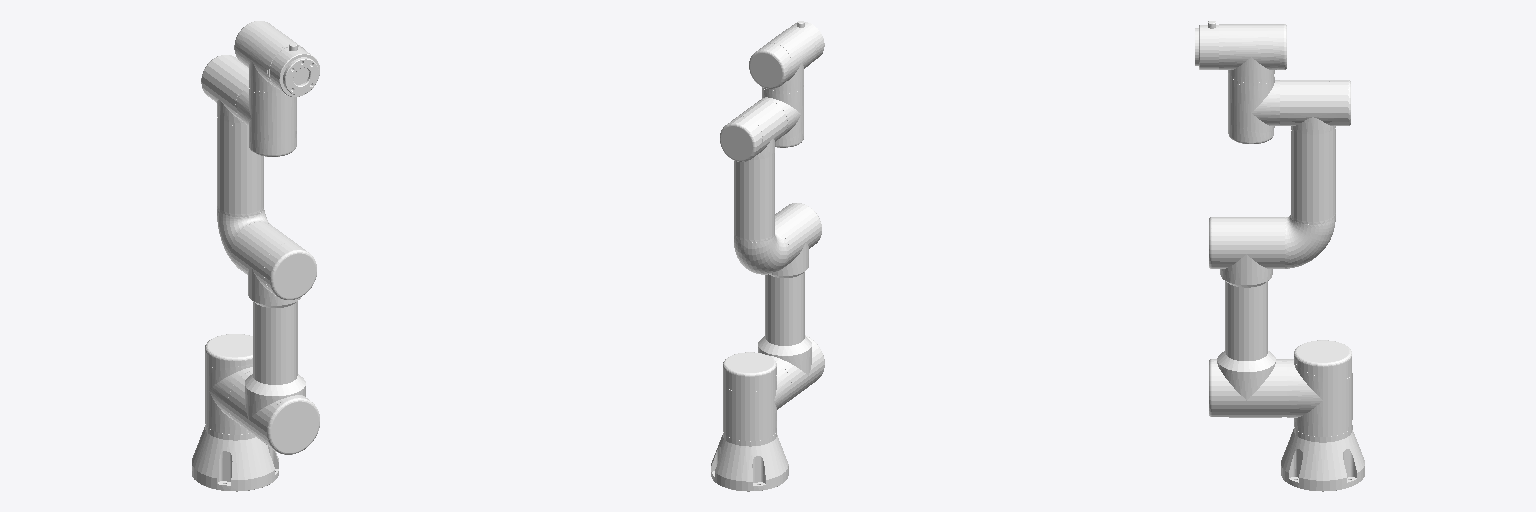
The robot description file, URDF, robot "aubo_i3":
<?xml version="1.0" ?>
<robot name="aubo_i3">
  
  
  <dh_type type="modified"/>
  
  
  <safety_para singularity_consistent="0.02 0.01 10 0.2 0.045 10"/>
  
  
  <link name="base_link">
    
    
    <inertial>
      
      
      <origin xyz="0.000149 -0.0004 0.0346" rpy="0 0 0"/>
      
      
      <mass value="1.365846"/>
      
      
      <inertia ixx="0.002801" ixy="-0.000001" ixz="0.000002" iyy="0.002763" iyz="0.000011" izz="0.003837"/>
      
    
    </inertial>
    
    
    <visual>
      
      
      <origin xyz="0 0 0" rpy="0 0 0"/>
      
      
      <geometry>
        
        
        <mesh filename="link0.stl"/>
      </geometry>
      
      
      <material name="">
        
        
        <color rgba="1 1 1 1"/>
        
      
      </material>
      
    
    </visual>
    
    
    <collision>
      
      
      <origin xyz="0 0 0" rpy="0 0 0"/>
      
      
      <geometry>
        
        
        <mesh filename="link0.stl"/>
      </geometry>
      
    
    </collision>
    
  
  </link>
  

  
  <link name="shoulder_Link">
    
    
    <inertial>
      
      
      <origin xyz="-0.000016 0.001852 -0.015716" rpy="0 0 0"/>
      
      
      <mass value="3.2573"/>
      
      
      <inertia ixx="0.005717" ixy="0.000001" ixz="0.000004" iyy="0.005636" iyz="-0.000131" izz="0.003863"/>
      
    
    </inertial>
    
    
    <visual>
      
      
      <origin xyz="0 0 0" rpy="0 0 0"/>
      
      
      <geometry>
        
        
        <mesh filename="link1.stl"/>
      </geometry>
      
      
      <material name="">
        
        
        <color rgba="1 1 1 1"/>
        
      
      </material>
      
    
    </visual>
    
    
    <collision>
      
      
      <origin xyz="0 0 0" rpy="0 0 0"/>
      
      
      <geometry>
        
        
        <mesh filename="link1.stl"/>
      </geometry>
      
    
    </collision>
    
  
  </link>
  

  
  <joint name="shoulder_joint" type="revolute">
    
    
    <origin xyz="0 0 0.157" rpy="0 0 3.1415926535897932384626433832795"/>
    
    
    <parent link="base_link"/>
    
    
    <child link="shoulder_Link"/>
    
    
    <axis xyz="0 0 1"/>
    
    
    <limit lower="-6.283185307179586476925286766559" upper="6.283185307179586476925286766559" effort="61" start_stop="102" velocity="3.1104877758314784539234092903757"/>
    
    
    <property inertia="0" damping="0" stiffness="0" offset="0" motor_constant="8.58" ratio="101"/>
    
  
  </joint>
  

  
  <link name="upperArm_Link">
    
    
    <inertial>
      
      
      <origin xyz="0.113925 -0.000006 -0.006424" rpy="0 0 0"/>
      
      
      <mass value="6.116851"/>
      
      
      <inertia ixx="0.009999" ixy="0.000018" ixz="-0.000214" iyy="0.106325" iyz="0.000003" izz="0.102883"/>
      
    
    </inertial>
    
    
    <visual>
      
      
      <origin xyz="0 0 0" rpy="0 0 0"/>
      
      
      <geometry>
        
        
        <mesh filename="link2.stl"/>
      </geometry>
      
      
      <material name="">
        
        
        <color rgba="1 1 1 1"/>
        
      
      </material>
      
    
    </visual>
    
    
    <collision>
      
      
      <origin xyz="0 0 0" rpy="0 0 0"/>
      
      
      <geometry>
        
        
        <mesh filename="link2.stl"/>
      </geometry>
      
    
    </collision>
    
  
  </link>
  

  
  <joint name="upperArm_joint" type="revolute">
    
    
    <origin xyz="0 0.119 0" rpy="-1.5707963267948966192313216916398 -1.5707963267948966192313216916398 0"/>
    
    
    <parent link="shoulder_Link"/>
    
    
    <child link="upperArm_Link"/>
    
    
    <axis xyz="0 0 1"/>
    
    
    <limit lower="-6.283185307179586476925286766559" upper="6.283185307179586476925286766559" effort="61" start_stop="102" velocity="3.1104877758314784539234092903757"/>
    
    
    <property inertia="0" damping="0" stiffness="0" offset="0" motor_constant="8.58" ratio="101"/>
    
  
  </joint>
  

  
  <link name="foreArm_Link">
    
    
    <inertial>
      
      
      <origin xyz="0.201115 -0.000036 0.093625" rpy="0 0 0"/>
      
      
      <mass value="2.351523"/>
      
      
      <inertia ixx="0.00276" ixy="0.000003" ixz="0.000301" iyy="0.022363" iyz="0.000004" izz="0.021553"/>
      
    
    </inertial>
    
    
    <visual>
      
      
      <origin xyz="0 0 0" rpy="0 0 0"/>
      
      
      <geometry>
        
        
        <mesh filename="link3.stl"/>
      </geometry>
      
      
      <material name="">
        
        
        <color rgba="1 1 1 1"/>
        
      
      </material>
      
    
    </visual>
    
    
    <collision>
      
      
      <origin xyz="0 0 0" rpy="0 0 0"/>
      
      
      <geometry>
        
        
        <mesh filename="link3.stl"/>
      </geometry>
      
    
    </collision>
    
  
  </link>
  

  
  <joint name="foreArm_joint" type="revolute">
    
    
    <origin xyz="0.266 0 0" rpy="-3.1415926535897932384626433832795 0 0"/>
    
    
    <parent link="upperArm_Link"/>
    
    
    <child link="foreArm_Link"/>
    
    
    <axis xyz="0 0 1"/>
    
    
    <limit lower="-6.283185307179586476925286766559" upper="6.283185307179586476925286766559" effort="49" start_stop="66" velocity="3.1104877758314784539234092903757"/>
    
    
    <property inertia="0" damping="0" stiffness="0" offset="0" motor_constant="8.81" ratio="101"/>
    
  
  </joint>
  

  
  <link name="wrist1_Link">
    
    
    <inertial>
      
      
      <origin xyz="0.000038 0.011278 -0.001539" rpy="0 0 0"/>
      
      
      <mass value="1.628022"/>
      
      
      <inertia ixx="0.001951" ixy="0.000003" ixz="0.000001" iyy="0.001154" iyz="-0.000042" izz="0.001931"/>
      
    
    </inertial>
    
    
    <visual>
      
      
      <origin xyz="0 0 0" rpy="0 0 0"/>
      
      
      <geometry>
        
        
        <mesh filename="link4.stl"/>
      </geometry>
      
      
      <material name="">
        
        
        <color rgba="1 1 1 1"/>
        
      
      </material>
      
    
    </visual>
    
    
    <collision>
      
      
      <origin xyz="0 0 0" rpy="0 0 0"/>
      
      
      <geometry>
        
        
        <mesh filename="link4.stl"/>
      </geometry>
      
    
    </collision>
    
  
  </link>
  

  
  <joint name="wrist1_joint" type="revolute">
    
    
    <origin xyz="0.2565 0 0" rpy="3.1415926535897932384626433832795 0 1.5707963267948966192313216916398"/>
    
    
    <parent link="foreArm_Link"/>
    
    
    <child link="wrist1_Link"/>
    
    
    <axis xyz="0 0 1"/>
    
    
    <limit lower="-6.283185307179586476925286766559" upper="6.283185307179586476925286766559" effort="13.5" start_stop="34" velocity="3.1104877758314784539234092903757"/>
    
    
    <property inertia="0" damping="0" stiffness="0" offset="0" motor_constant="7.092" ratio="101"/>
    
  
  </joint>
  

  
  <link name="wrist2_Link">
    
    
    <inertial>
      
      
      <origin xyz="-0.000038 -0.011278 -0.001539" rpy="0 0 0"/>
      
      
      <mass value="1.628022"/>
      
      
      <inertia ixx="0.001951" ixy="0.000003" ixz="-0.000001" iyy="0.001154" iyz="0.000042" izz="0.001931"/>
      
    
    </inertial>
    
    
    <visual>
      
      
      <origin xyz="0 0 0" rpy="0 0 0"/>
      
      
      <geometry>
        
        
        <mesh filename="link5.stl"/>
      </geometry>
      
      
      <material name="">
        
        
        <color rgba="1 1 1 1"/>
        
      
      </material>
      
    
    </visual>
    
    
    <collision>
      
      
      <origin xyz="0 0 0" rpy="0 0 0"/>
      
      
      <geometry>
        
        
        <mesh filename="link5.stl"/>
      </geometry>
      
    
    </collision>
    
  
  </link>
  

  
  <joint name="wrist2_joint" type="revolute">
    
    
    <origin xyz="0 0.1025 0" rpy="-1.5707963267948966192313216916398 0 0"/>
    
    
    <parent link="wrist1_Link"/>
    
    
    <child link="wrist2_Link"/>
    
    
    <axis xyz="0 0 1"/>
    
    
    <limit lower="-6.283185307179586476925286766559" upper="6.283185307179586476925286766559" effort="13.5" start_stop="34" velocity="3.1104877758314784539234092903757"/>
    
    
    <property inertia="0" damping="0" stiffness="0" offset="0" motor_constant="7.092" ratio="101"/>
    
  
  </joint>
  

  
  <link name="wrist3_Link">
    
    
    <inertial>
      
      
      <origin xyz="0.000022 0.0006 -0.017081" rpy="0 0 0"/>
      
      
      <mass value="0.1978"/>
      
      
      <inertia ixx="0.000118" ixy="0" ixz="0" iyy="0.000112" iyz="0.000001" izz="0.000184"/>
      
    
    </inertial>
    
    
    <visual>
      
      
      <origin xyz="0 0 0" rpy="0 0 0"/>
      
      
      <geometry>
        
        
        <mesh filename="link6.stl"/>
      </geometry>
      
      
      <material name="">
        
        
        <color rgba="1 1 1 1"/>
        
      
      </material>
      
    
    </visual>
    
    
    <collision>
      
      
      <origin xyz="0 0 0" rpy="0 0 0"/>
      
      
      <geometry>
        
        
        <mesh filename="link6.stl"/>
      </geometry>
      
    
    </collision>
    
  
  </link>
  

  
  <joint name="wrist3_joint" type="revolute">
    
    
    <origin xyz="0 -0.094 0" rpy="1.5707963267948966192313216916398 0 0"/>
    
    
    <parent link="wrist2_Link"/>
    
    
    <child link="wrist3_Link"/>
    
    
    <axis xyz="0 0 1"/>
    
    
    <limit lower="-6.283185307179586476925286766559" upper="6.283185307179586476925286766559" effort="13.5" start_stop="34" velocity="3.1104877758314784539234092903757"/>
    
    
    <property inertia="0" damping="0" stiffness="0" offset="0" motor_constant="7.092" ratio="101"/>
    
  
  </joint>
  

  
  <link name="world"/>
  

  
  <joint name="world_joint" type="fixed">
    
    
    <parent link="world"/>
    
    
    <child link="base_link"/>
    
    
    <origin xyz="0.0 0.0 0.0" rpy="0.0 0.0 0.0"/>
    
  
  </joint>
  

</robot>

--- What the picture shows (computed from the rendered views, not written in the file) ---
The picture shows the robot from 3 angles, left to right: view 1: azimuth 30°, elevation 25°; view 2: azimuth 150°, elevation 25°; view 3: azimuth 270°, elevation 25°; orthographic projection.
Model aubo_i3 with 8 links and 7 joints (6 revolute, 1 fixed), rooted at world, posed all joints at 0.
Links seen in each view (by area): view 1: upperArm_Link, foreArm_Link, base_link, shoulder_Link, wrist1_Link, wrist2_Link, wrist3_Link; view 2: foreArm_Link, upperArm_Link, shoulder_Link, base_link, wrist2_Link, wrist1_Link; view 3: upperArm_Link, foreArm_Link, shoulder_Link, base_link, wrist2_Link, wrist1_Link, wrist3_Link.
Link boxes in pixels (box(x1,y1,x2,y2)): upperArm_Link: box(228, 222, 319, 454); foreArm_Link: box(201, 55, 270, 268); base_link: box(192, 424, 278, 491); shoulder_Link: box(205, 334, 252, 434); wrist1_Link: box(237, 86, 296, 156); wrist2_Link: box(234, 21, 304, 92); wrist3_Link: box(270, 43, 319, 96); foreArm_Link: box(720, 100, 787, 274); upperArm_Link: box(758, 203, 824, 404); shoulder_Link: box(723, 352, 789, 440); base_link: box(711, 432, 788, 491); wrist2_Link: box(749, 28, 815, 90); wrist1_Link: box(758, 85, 803, 147); upperArm_Link: box(1209, 217, 1286, 417); foreArm_Link: box(1280, 80, 1350, 268); shoulder_Link: box(1287, 340, 1352, 436); base_link: box(1281, 425, 1364, 491); wrist2_Link: box(1219, 24, 1286, 82); wrist1_Link: box(1228, 75, 1279, 143); wrist3_Link: box(1195, 21, 1218, 69).
Size in the robot's own frame: 0.14 by 0.283 by 0.828 metres.
Meshes: 7 distinct files referenced, 7 mesh visuals loaded (7 binary STL).